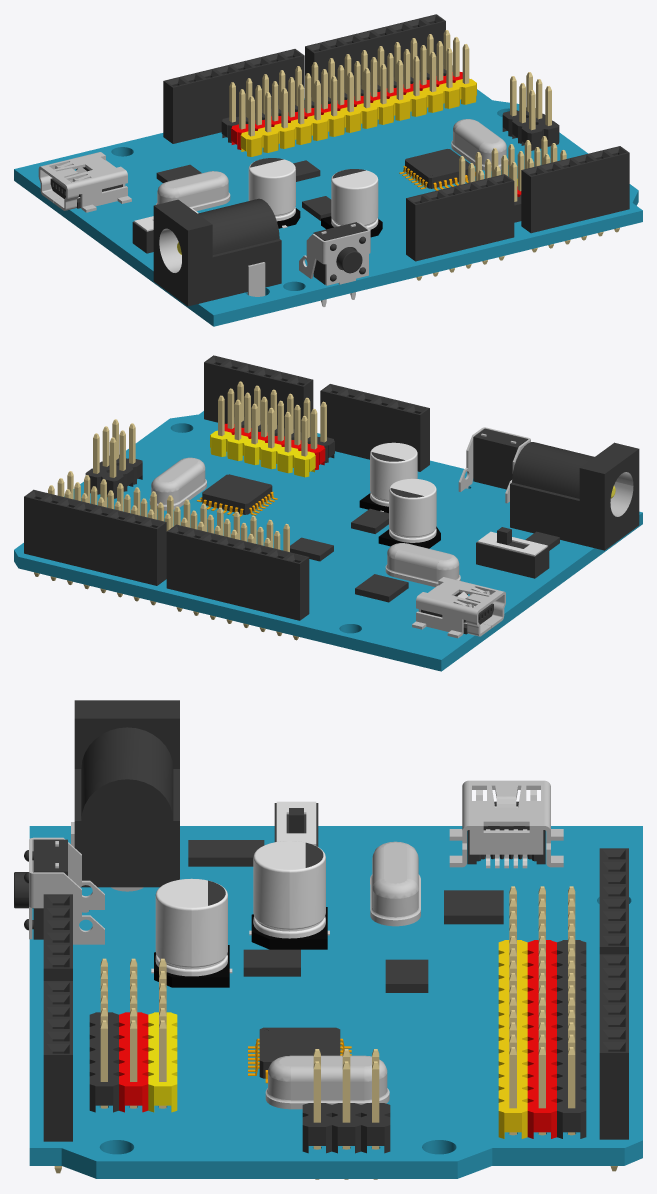
File: uno.glb
3 views of the same model, one above another, from view 1: azimuth 30°, elevation 25°; view 2: azimuth 150°, elevation 25°; view 3: azimuth 270°, elevation 25° (orthographic). The views are drawn at different scales.
Parts seen in each view (by area): view 1: uno; view 2: uno; view 3: uno.
Part boxes in pixels (x1,y1,x2,y2): uno: (14, 14, 642, 326); uno: (14, 355, 642, 671); uno: (14, 700, 642, 1179).
Size of the model in its own units: 0.0706 by 0.0153 by 0.0547.
